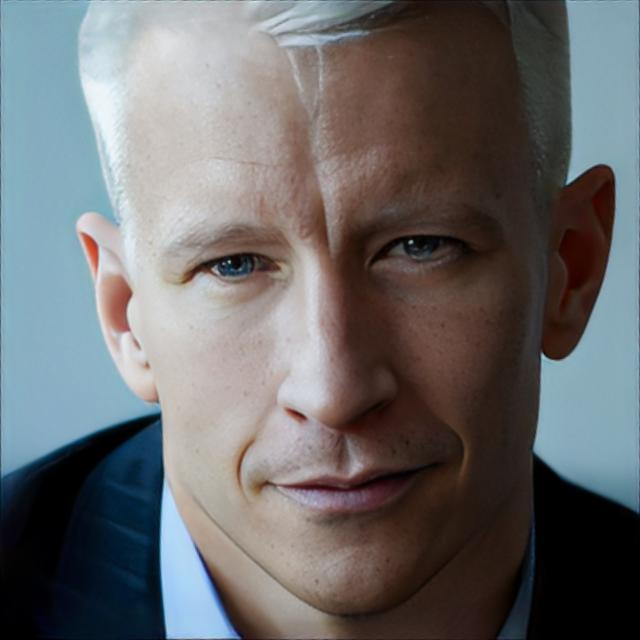content: (132, 0, 544, 615)
